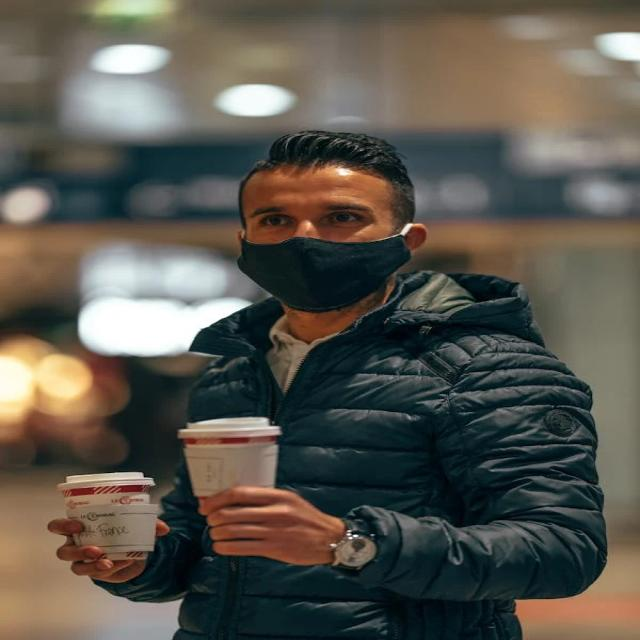mask: (180, 130, 498, 320)
